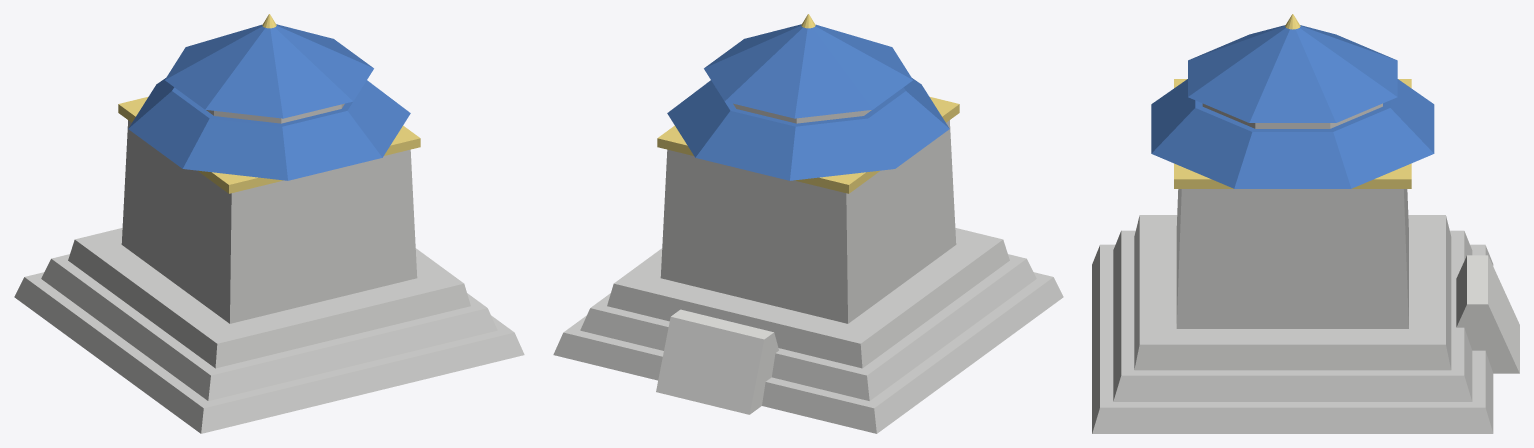
The model's file is cks-memorial.glb.
3 renders of one model, left to right at view 1: azimuth 30°, elevation 25°; view 2: azimuth 150°, elevation 25°; view 3: azimuth 270°, elevation 25°, orthographic. The views are drawn at different scales.
Visible parts, largest first — view 1: LandmarkRoot; view 2: LandmarkRoot; view 3: LandmarkRoot.
Boxes of the visible parts, box(x1,y1,x2,y2) form: LandmarkRoot: box(14, 14, 524, 433); LandmarkRoot: box(553, 14, 1063, 433); LandmarkRoot: box(1092, 14, 1519, 433).
Bounding box in the file's own units: 76 × 70 × 81.
